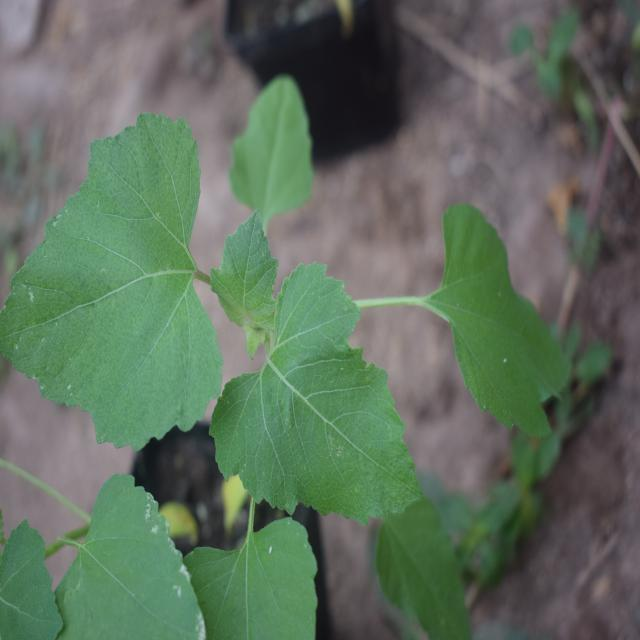cocklebur: (4, 94, 562, 510)
